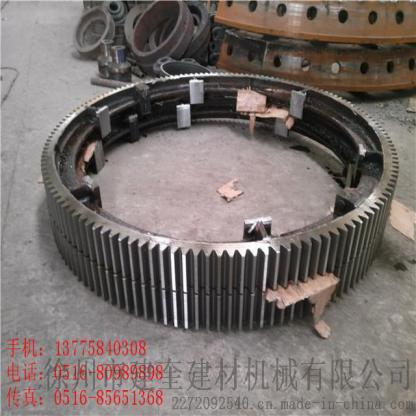FOD: (39, 64, 400, 335)
